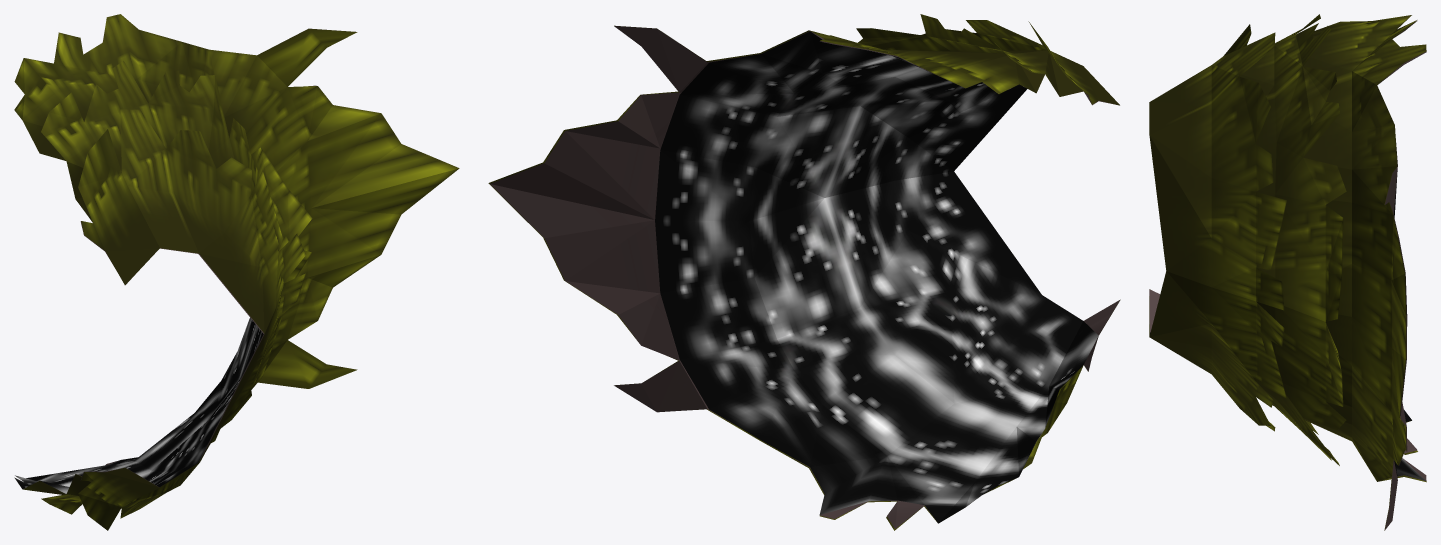
3 views of the same model, side by side, from view 1: azimuth 30°, elevation 25°; view 2: azimuth 150°, elevation 25°; view 3: azimuth 270°, elevation 25° (orthographic). The views are drawn at different scales.
Parts seen in each view (by area): view 1: B_0044_3a_0, B_0044_3a_1; view 2: B_0044_3a_1, B_0044_3a_0; view 3: B_0044_3a_0, B_0044_3a_1.
Part boxes in pixels (x1,y1,x2,y2): B_0044_3a_0: (14,14,459,530); B_0044_3a_1: (15,317,263,493); B_0044_3a_1: (655,31,1098,523); B_0044_3a_0: (488,14,1120,530); B_0044_3a_0: (1149,14,1426,530); B_0044_3a_1: (1150,20,1425,480).
Size of the model in its own units: 3.31 by 3.01 by 1.75.
